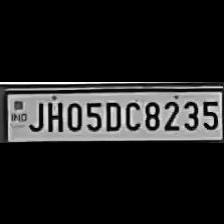0: (64, 98, 82, 132)
2: (160, 97, 180, 131)
3: (180, 96, 198, 130)
5: (82, 97, 102, 131), (200, 96, 218, 130)
8: (141, 97, 161, 130)
C: (123, 97, 141, 130)
D: (102, 97, 122, 130)
H: (43, 97, 63, 132)
J: (28, 97, 44, 131)
